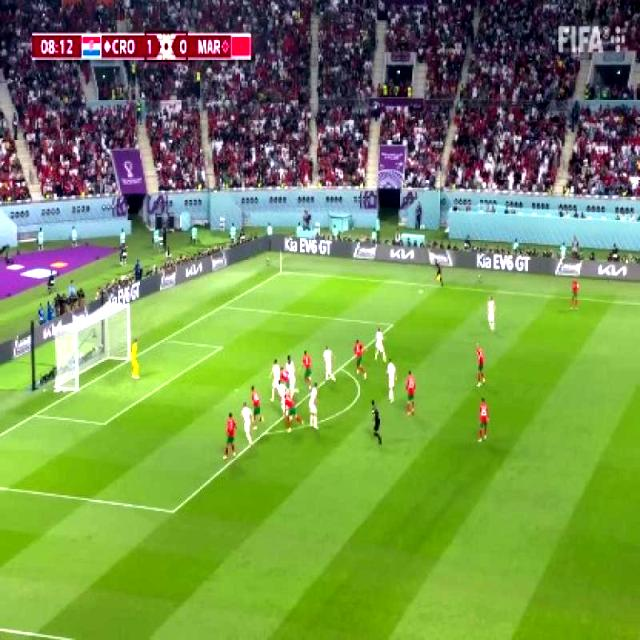bigarea_bottom_inner: (163, 497, 182, 523)
bigarea_top_inner: (385, 316, 397, 332)
bigarea_top_outter: (215, 296, 230, 314)
bottom_arc_area_intersection: (259, 422, 274, 439)
corner: (272, 266, 288, 277)
smallarea_bottom_inner: (94, 411, 112, 434)
smallarea_bottom_outter: (26, 405, 42, 423)
smallarea_top_inner: (212, 338, 228, 356)
smallarea_top_outter: (157, 330, 171, 348)
top_arc_area_intersection: (332, 358, 348, 376)
